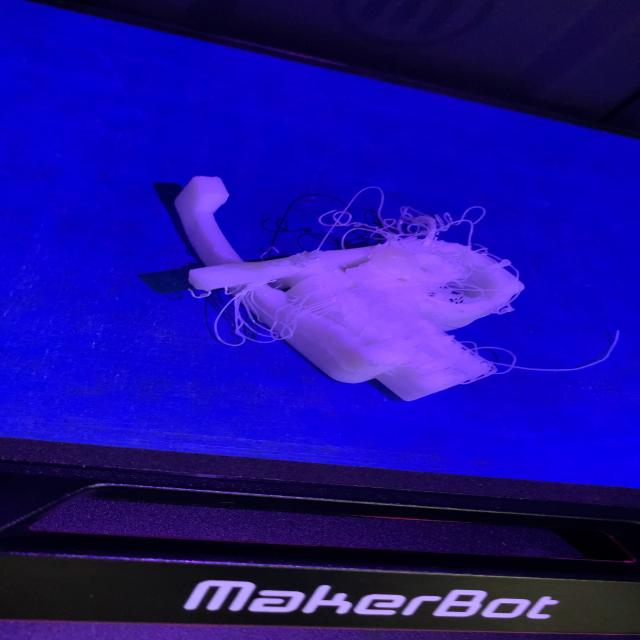spaghetti: (169, 175, 616, 402)
